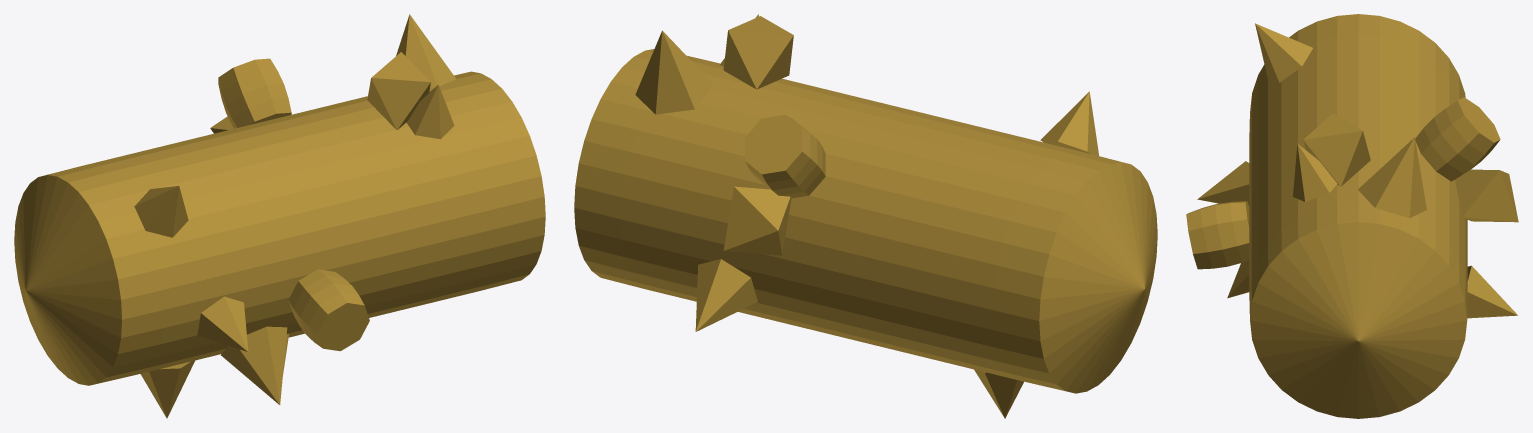
File: exp1_ovoid_cylinder_asym_02.glb
3 renders of one model, left to right at view 1: azimuth 30°, elevation 25°; view 2: azimuth 150°, elevation 25°; view 3: azimuth 270°, elevation 25°, orthographic. The views are drawn at different scales.
Visible parts, largest first — view 1: exp1_ovoid_cylinder_asym_02; view 2: exp1_ovoid_cylinder_asym_02; view 3: exp1_ovoid_cylinder_asym_02.
Boxes of the visible parts, left/top/right/bottom form: exp1_ovoid_cylinder_asym_02: left=14, top=14, right=545, bottom=418; exp1_ovoid_cylinder_asym_02: left=574, top=14, right=1157, bottom=418; exp1_ovoid_cylinder_asym_02: left=1186, top=14, right=1518, bottom=418.
Size of the model in its own units: 3.52 by 2.06 by 1.98.
